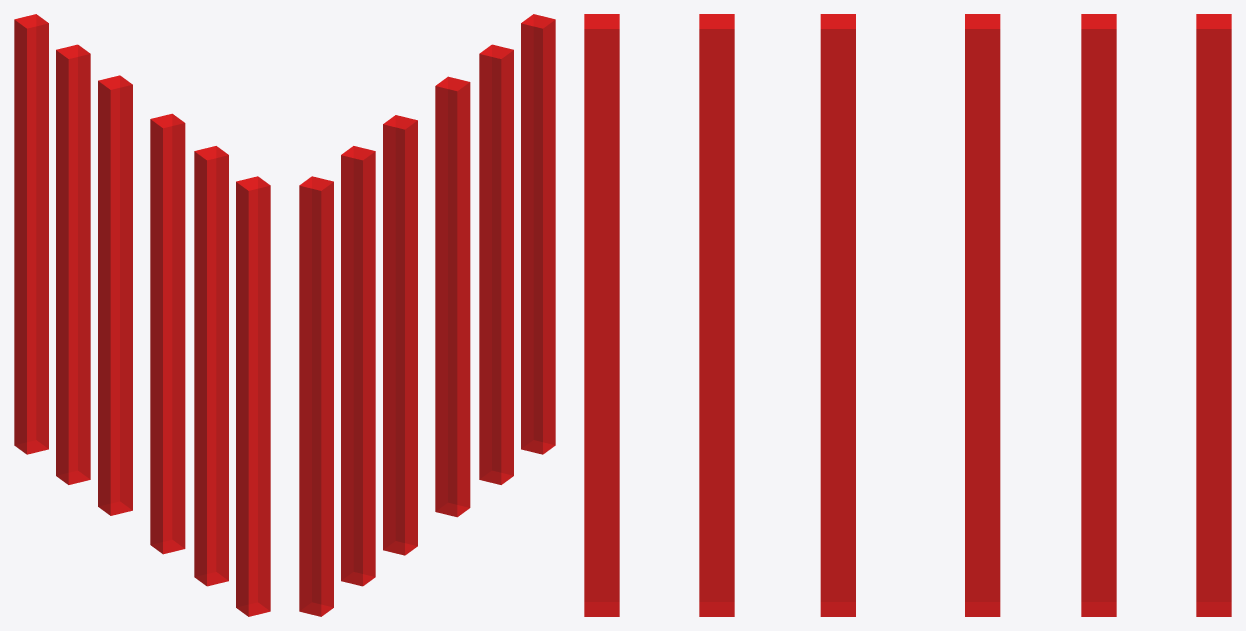
Rendered from upBarriers.fbx.
The picture shows the model from 3 angles, left to right: view 1: azimuth 30°, elevation 25°; view 2: azimuth 150°, elevation 25°; view 3: azimuth 270°, elevation 25°; orthographic projection. The views are drawn at different scales.
Visible parts, largest first — view 1: upBarriers; view 2: upBarriers; view 3: upBarriers.
Part boxes in pixels (x1,y1,x2,y2): upBarriers: (14,14,270,616); upBarriers: (299,14,555,616); upBarriers: (584,14,1231,616).
Size of the model in its own units: 100 by 1841 by 1836.
